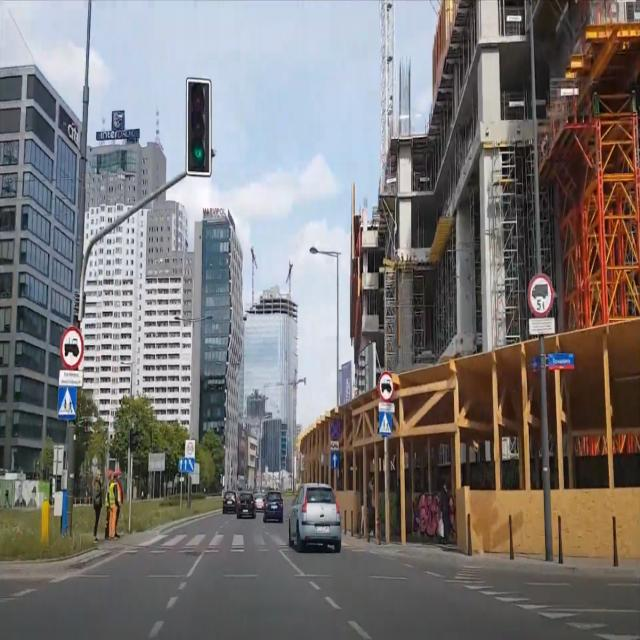Zakaz zatrzymywania sie: (329, 420, 340, 441)
